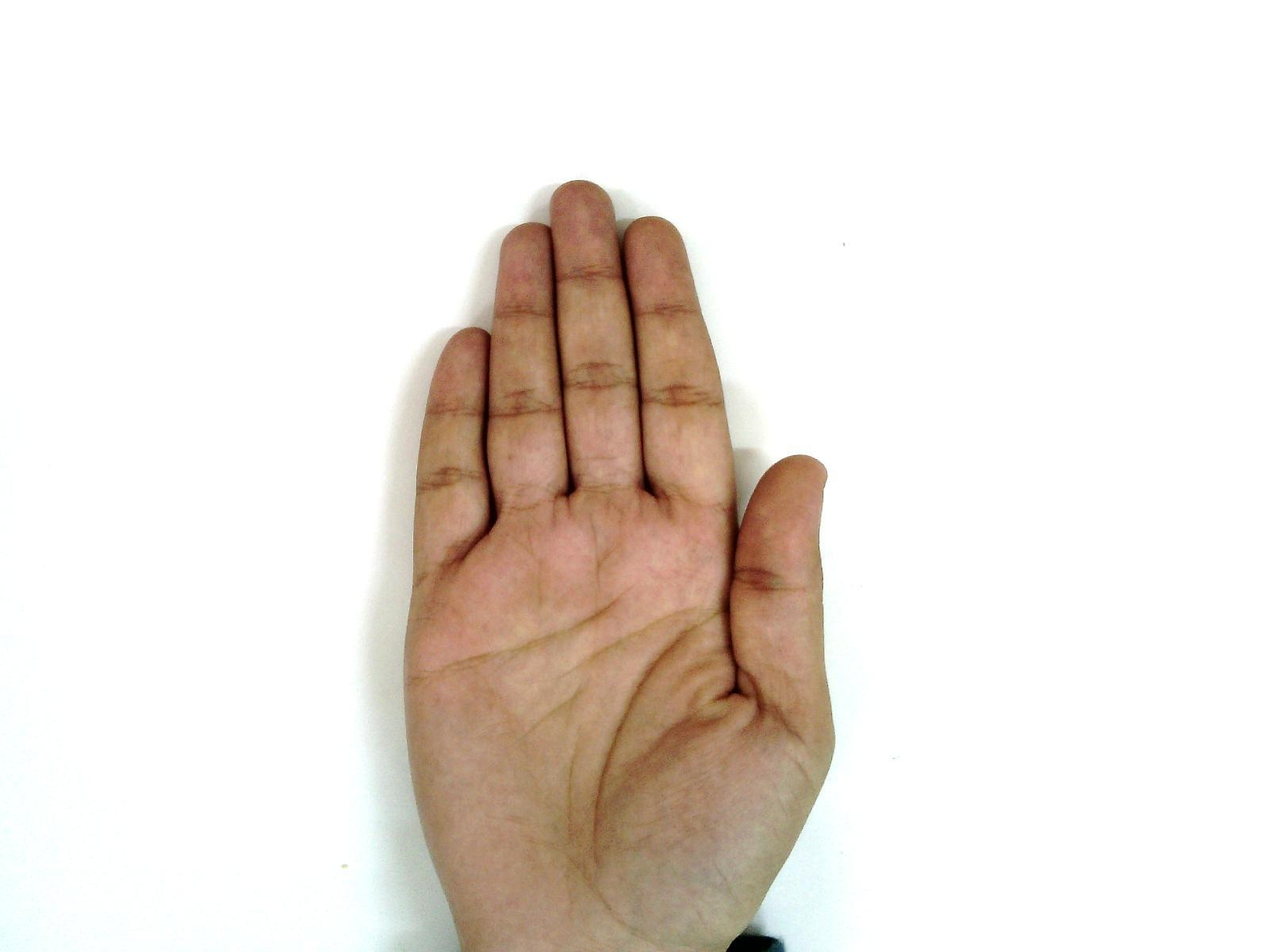open_palm: (400, 179, 839, 951)
